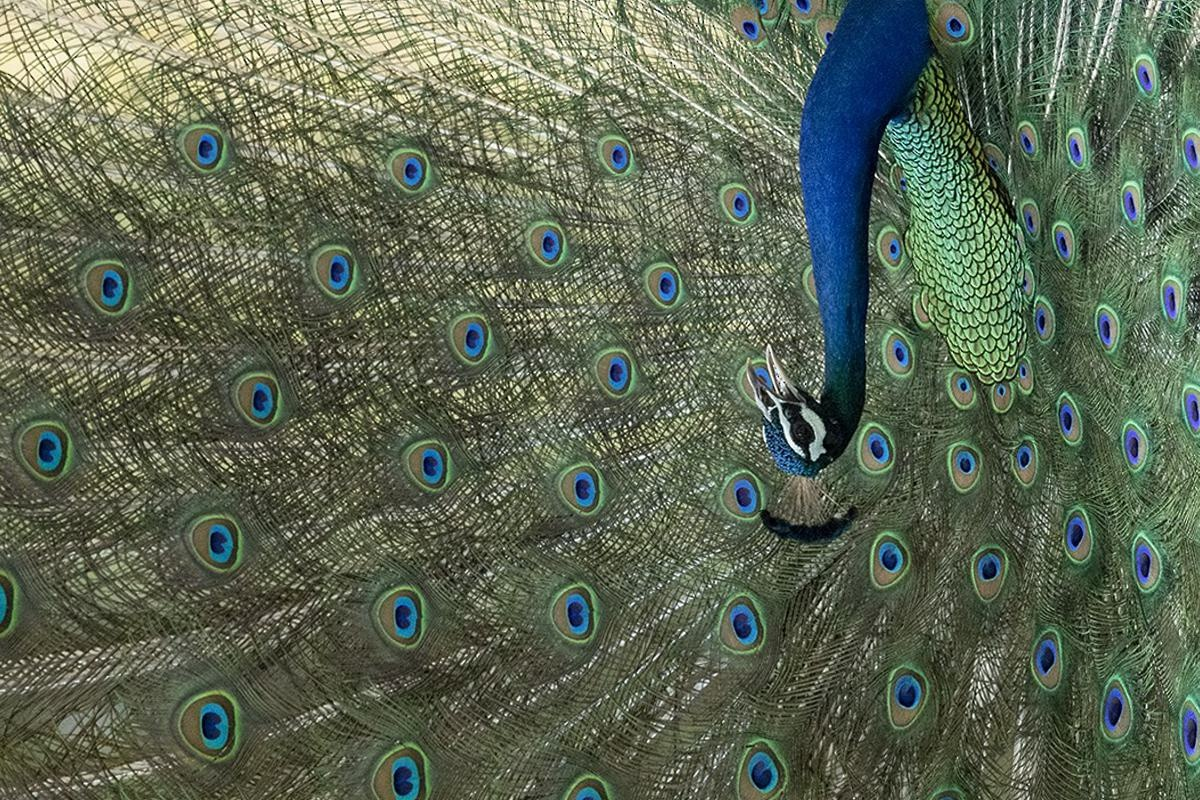peacock: (81, 2, 1200, 691)
